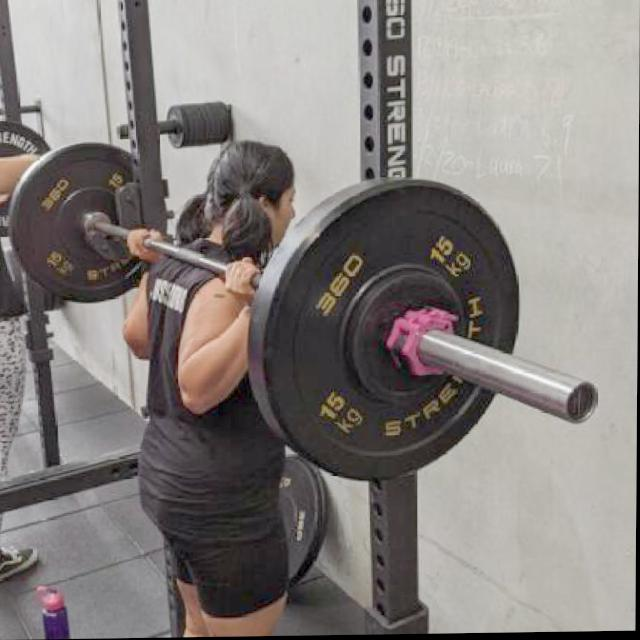barbell: (253, 176, 603, 489)
